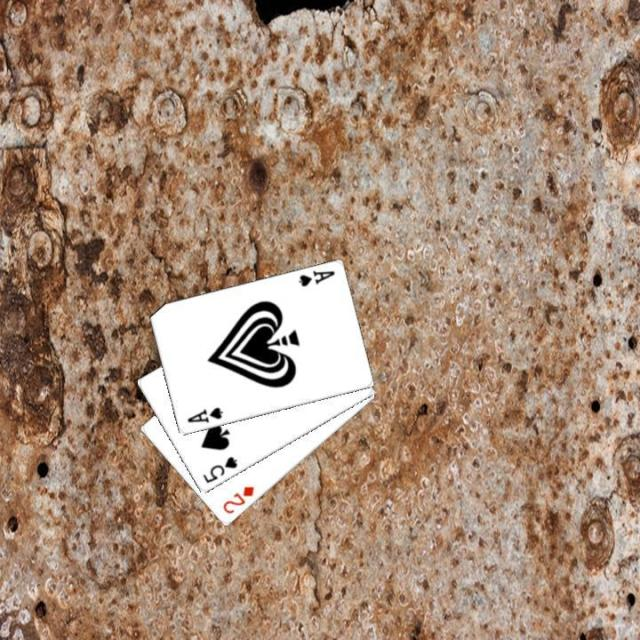2D: (219, 482, 256, 516)
5S: (199, 452, 239, 486)
AS: (294, 267, 336, 289), (183, 403, 224, 425)
